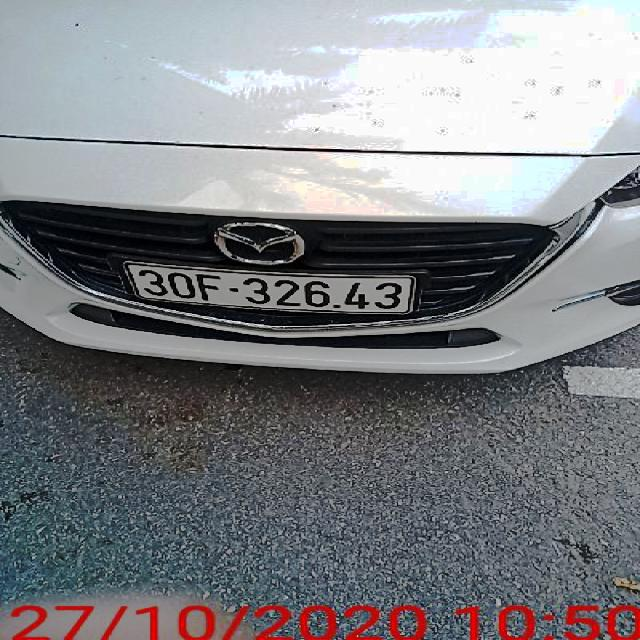license_plate: (127, 264, 422, 316)
